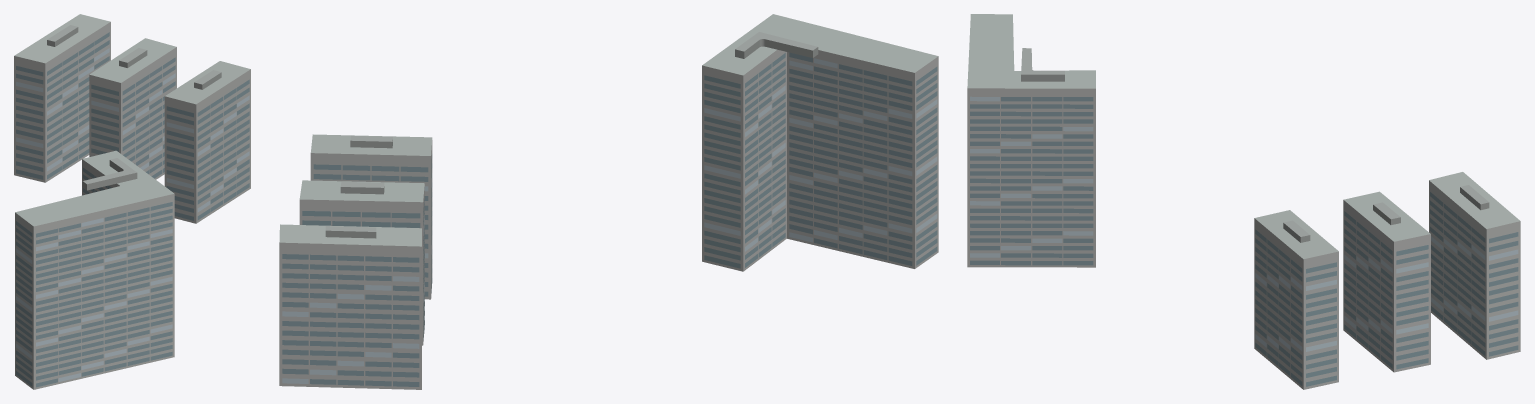
Rendered from apt-a13613005.glb.
3 renders of one model, left to right at view 1: azimuth 30°, elevation 25°; view 2: azimuth 150°, elevation 25°; view 3: azimuth 270°, elevation 25°, orthographic. The views are drawn at different scales.
Visible parts, largest first — view 1: apt-a13613005; view 2: apt-a13613005; view 3: apt-a13613005.
Part boxes in pixels (x1,y1,x2,y2): apt-a13613005: (14, 14, 250, 389); apt-a13613005: (279, 14, 938, 389); apt-a13613005: (967, 14, 1520, 389).
Bounding box in the file's own units: 148 × 65 × 176.
